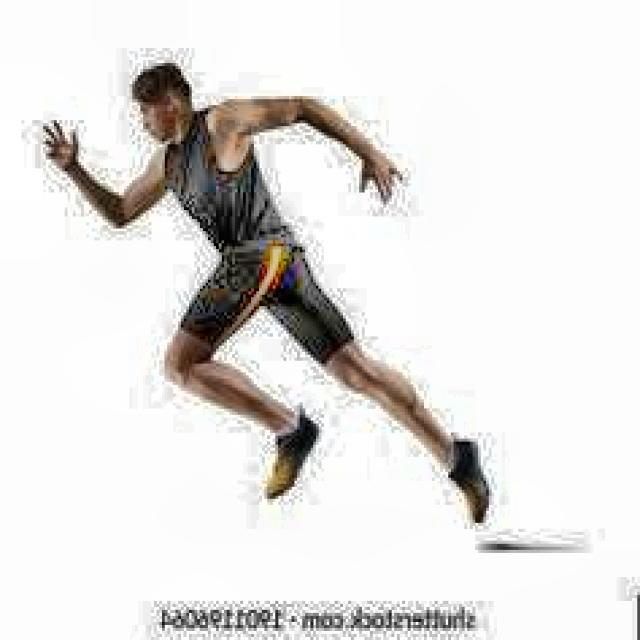Human: (31, 19, 549, 574)
